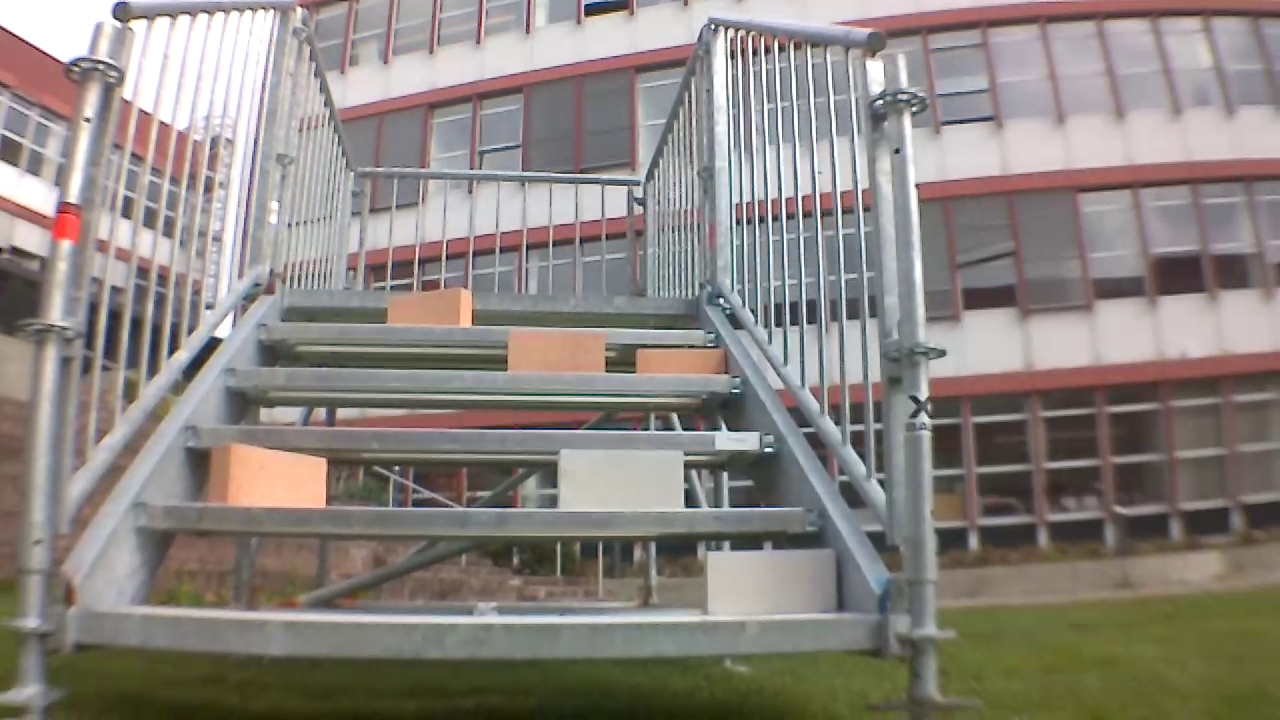brick: (704, 550, 836, 614), (556, 450, 682, 510), (212, 443, 325, 507), (507, 329, 604, 372), (389, 289, 471, 327), (636, 349, 725, 373)
edge: (75, 609, 877, 660), (135, 504, 822, 534), (182, 424, 777, 454), (221, 367, 744, 394), (283, 289, 698, 317), (260, 323, 714, 345)
stairs: (1, 2, 957, 718)
steps: (72, 285, 887, 667)
